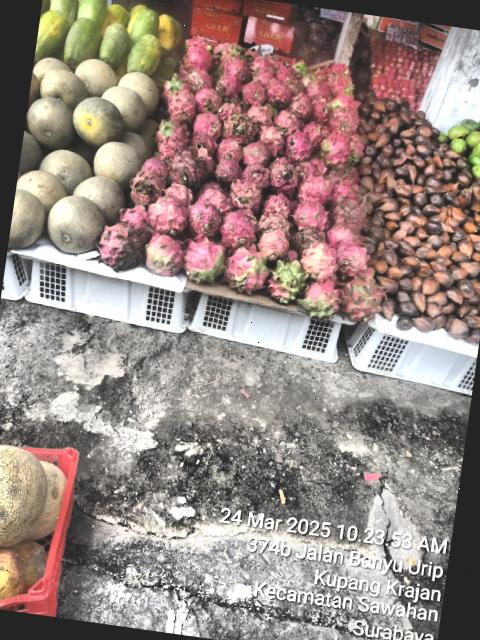buah-naga-belum-matang: (176, 234, 231, 292), (220, 243, 274, 300), (339, 274, 391, 328), (138, 228, 188, 280), (265, 258, 312, 309), (296, 241, 342, 282), (302, 278, 343, 322), (319, 130, 354, 174), (156, 71, 195, 107), (150, 117, 192, 148), (217, 49, 254, 81), (326, 90, 361, 110)
buah-naga-matang: (94, 221, 144, 272), (142, 194, 192, 236), (216, 206, 260, 247), (326, 215, 376, 250), (184, 198, 224, 238), (254, 225, 294, 265), (327, 190, 370, 226), (167, 148, 207, 186), (332, 240, 372, 276), (226, 178, 266, 213), (128, 168, 165, 204), (292, 198, 331, 232), (298, 170, 336, 204), (114, 200, 153, 233), (222, 112, 259, 146), (267, 156, 303, 190), (184, 42, 220, 74), (160, 182, 200, 210), (255, 124, 288, 157), (284, 131, 318, 163), (260, 192, 296, 222), (330, 104, 362, 136), (164, 93, 198, 122), (272, 105, 306, 134), (194, 181, 229, 209), (212, 72, 248, 99), (245, 54, 277, 84), (239, 160, 272, 189), (192, 86, 224, 115), (192, 112, 224, 140), (215, 136, 246, 164), (327, 68, 359, 95), (214, 156, 244, 184), (240, 140, 270, 168), (239, 78, 269, 106), (187, 132, 219, 158), (218, 94, 249, 120), (245, 100, 276, 126), (300, 120, 330, 146), (288, 90, 315, 117), (186, 66, 214, 92), (264, 80, 292, 106), (302, 76, 330, 101), (309, 99, 330, 125)
